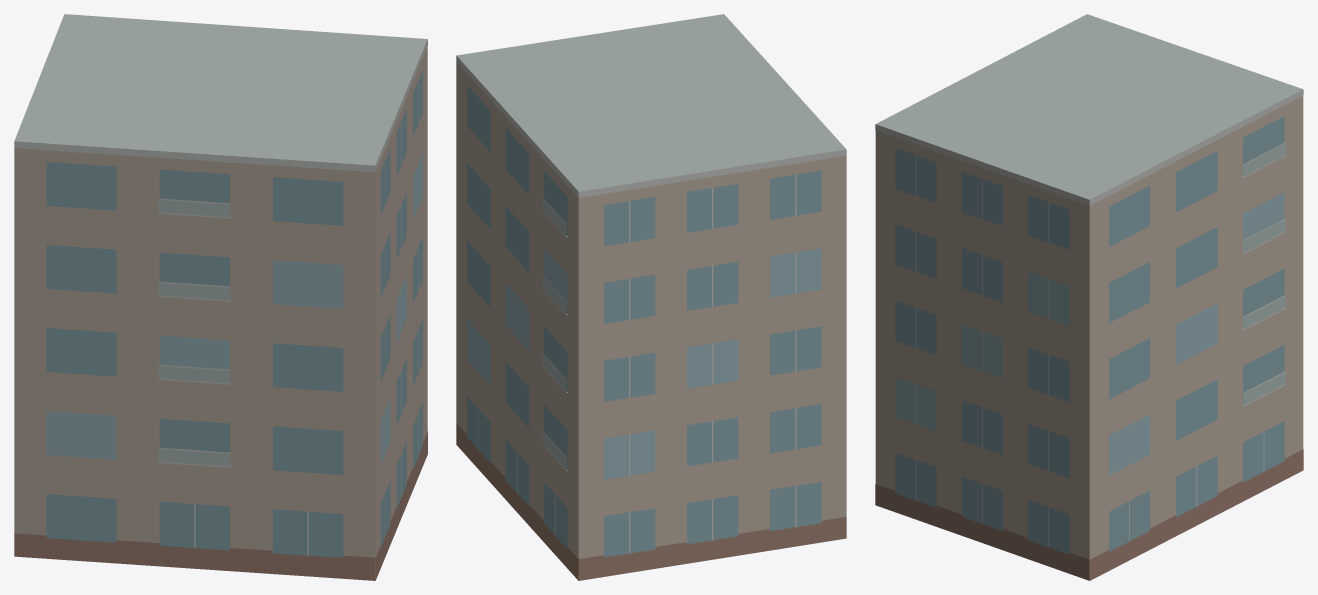
File: survey-upis-32854235.glb
3 renders of one model, left to right at view 1: azimuth 30°, elevation 25°; view 2: azimuth 150°, elevation 25°; view 3: azimuth 270°, elevation 25°, orthographic. The views are drawn at different scales.
Parts seen in each view (by area): view 1: survey-upis-32854235.tmp; view 2: survey-upis-32854235.tmp; view 3: survey-upis-32854235.tmp.
Part boxes in pixels (x1,y1,x2,y2): survey-upis-32854235.tmp: [14, 14, 427, 580]; survey-upis-32854235.tmp: [456, 14, 846, 580]; survey-upis-32854235.tmp: [875, 14, 1303, 580].
Bounding box in the file's own units: 15.8 × 15.1 × 15.38.
